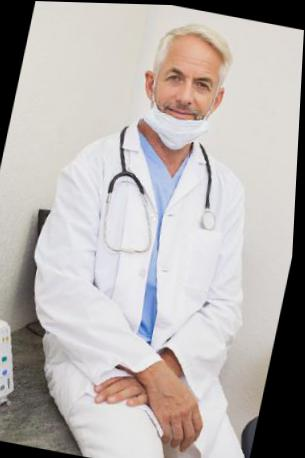WRONG: (147, 54, 223, 144)
